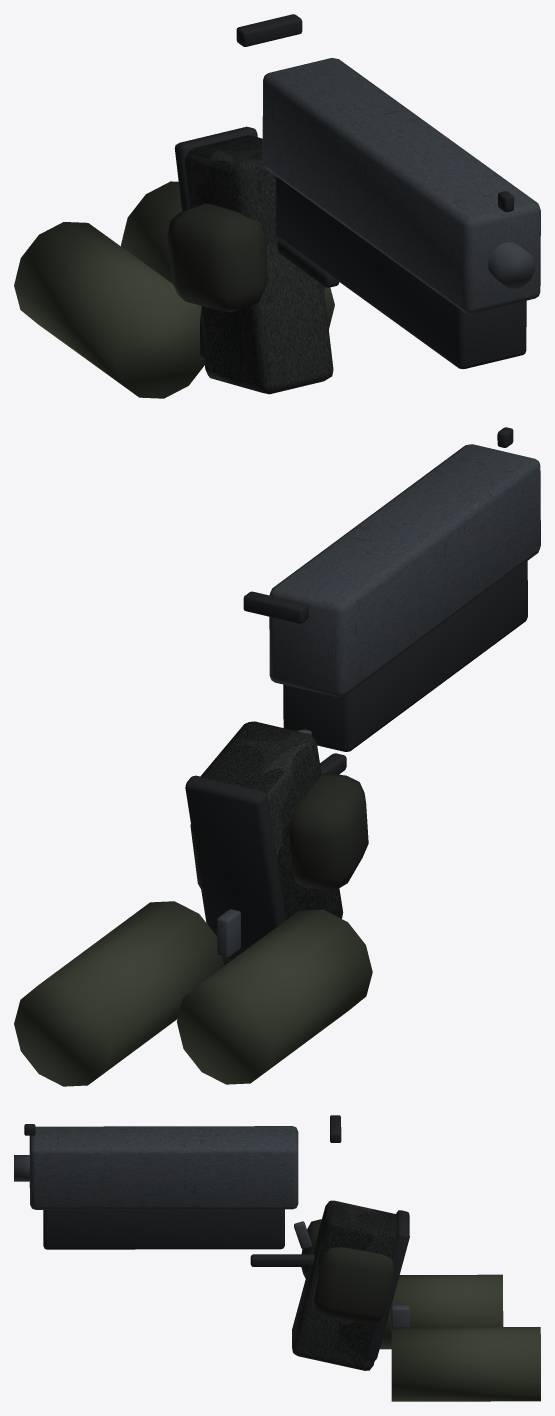
Rendered from weapon_deagle.glb.
3 renders of one model, top to bottom at view 1: azimuth 30°, elevation 25°; view 2: azimuth 150°, elevation 25°; view 3: azimuth 270°, elevation 25°, orthographic. The views are drawn at different scales.
Visible parts, largest first — view 1: WeaponMesh; view 2: WeaponMesh; view 3: WeaponMesh.
Part boxes in pixels (left/top/right/bottom): WeaponMesh: left=14, top=14, right=540, bottom=398; WeaponMesh: left=14, top=427, right=540, bottom=1086; WeaponMesh: left=14, top=1115, right=540, bottom=1401.
Size of the model in its own units: 0.1906 by 0.3025 by 0.5655.
Materials: 5 (2 with a texture image).
